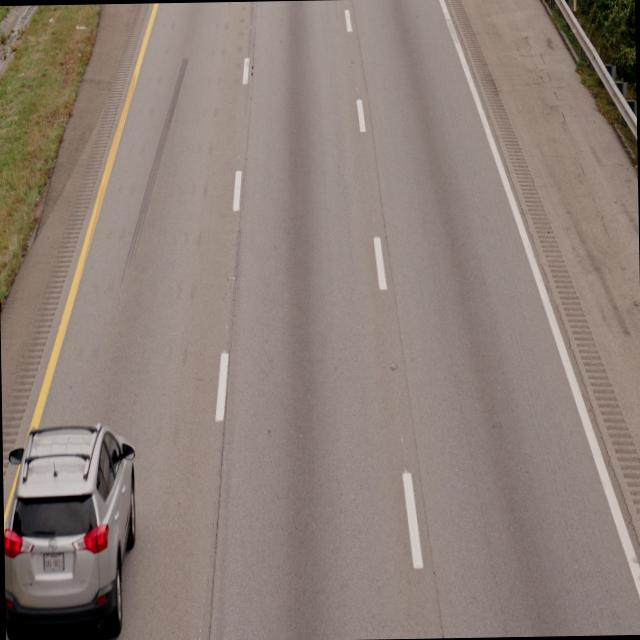Vehicle: (1, 418, 139, 640)
